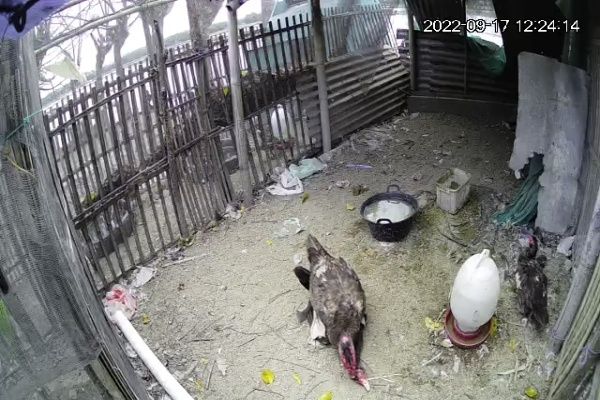Kawin: (277, 226, 376, 395)
